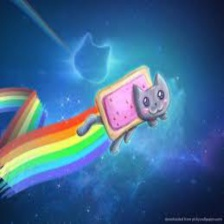face: (73, 59, 174, 159)
